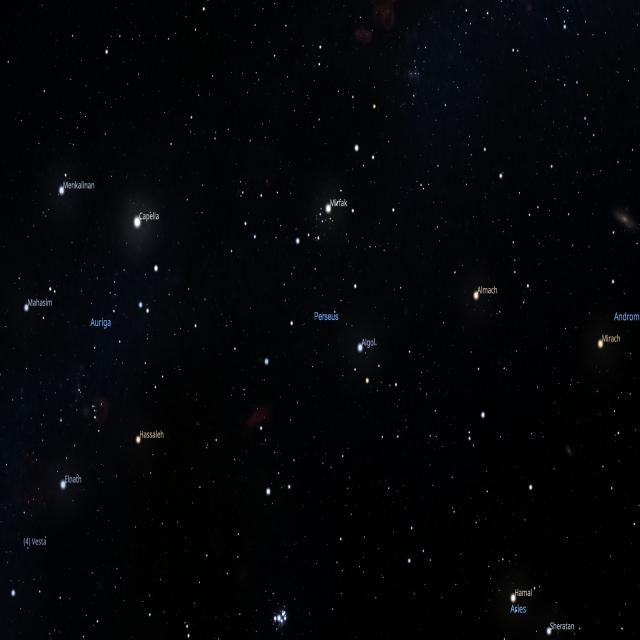Perseus: (258, 92, 401, 506)
